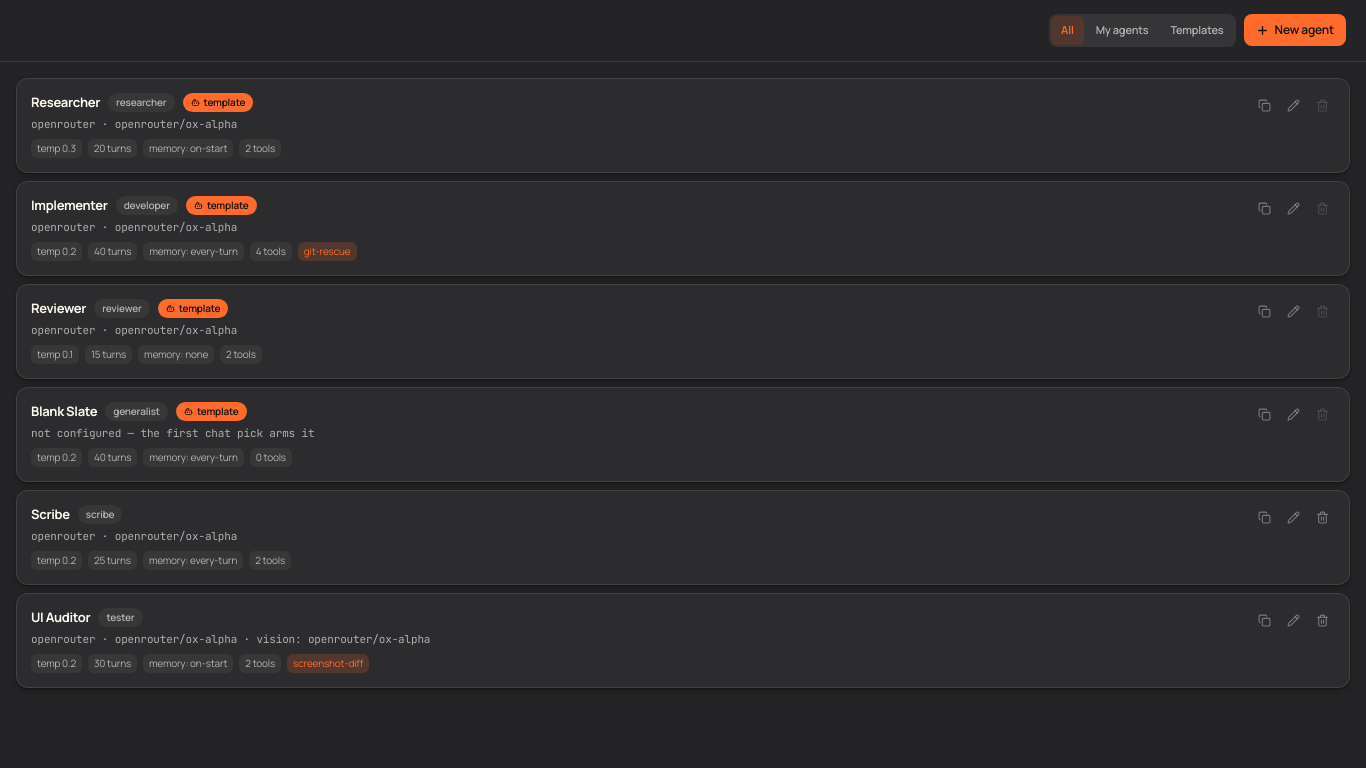
Test case: AgentsScreen (fixture backend) › template filter: My agents hides templates, Templates shows only templates
Expected: the text "Implementer" is shown, left=31, top=196, right=108, bottom=215
Click the button "My agents" at x=1122, y=30, box left=1086, top=16, right=1158, bottom=44
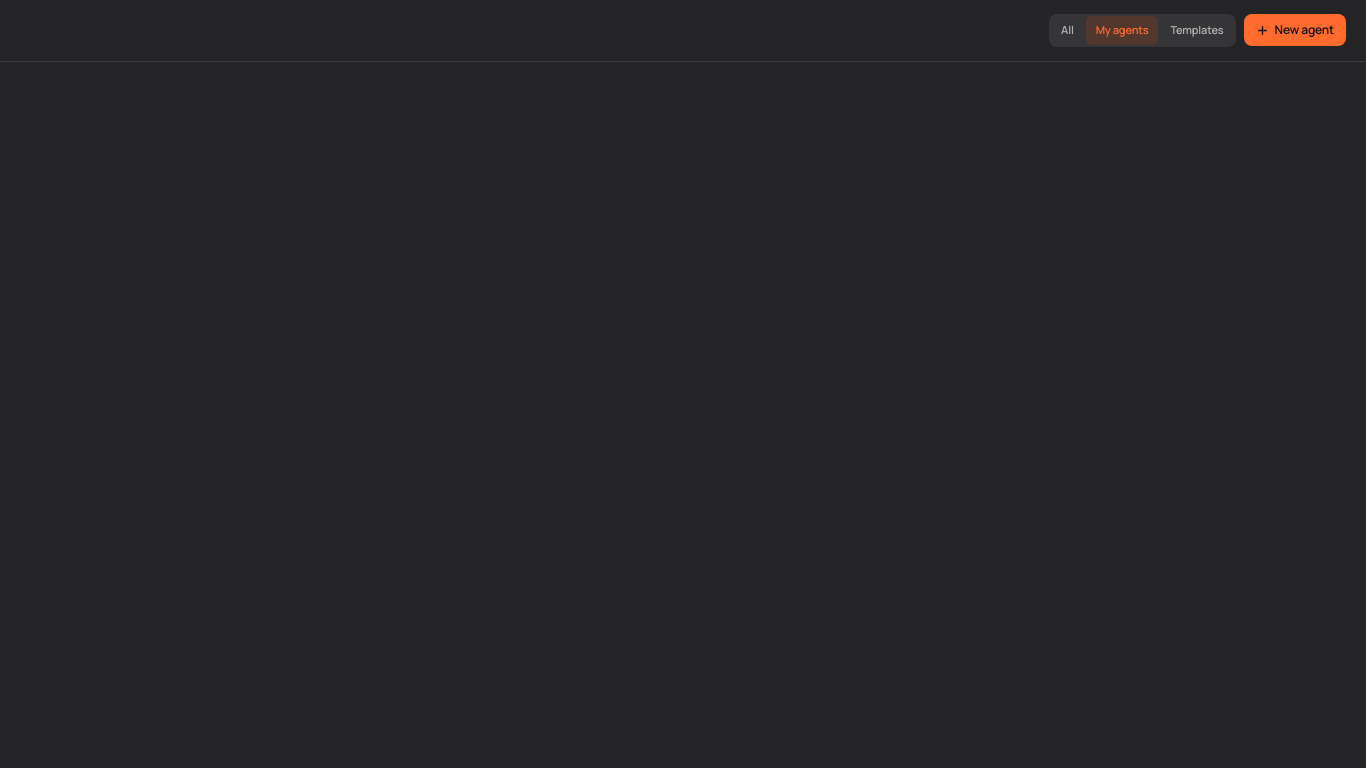
Now the text "Implementer" is gone
Click the button "Templates" at x=1197, y=30, box left=1160, top=16, right=1234, bottom=44
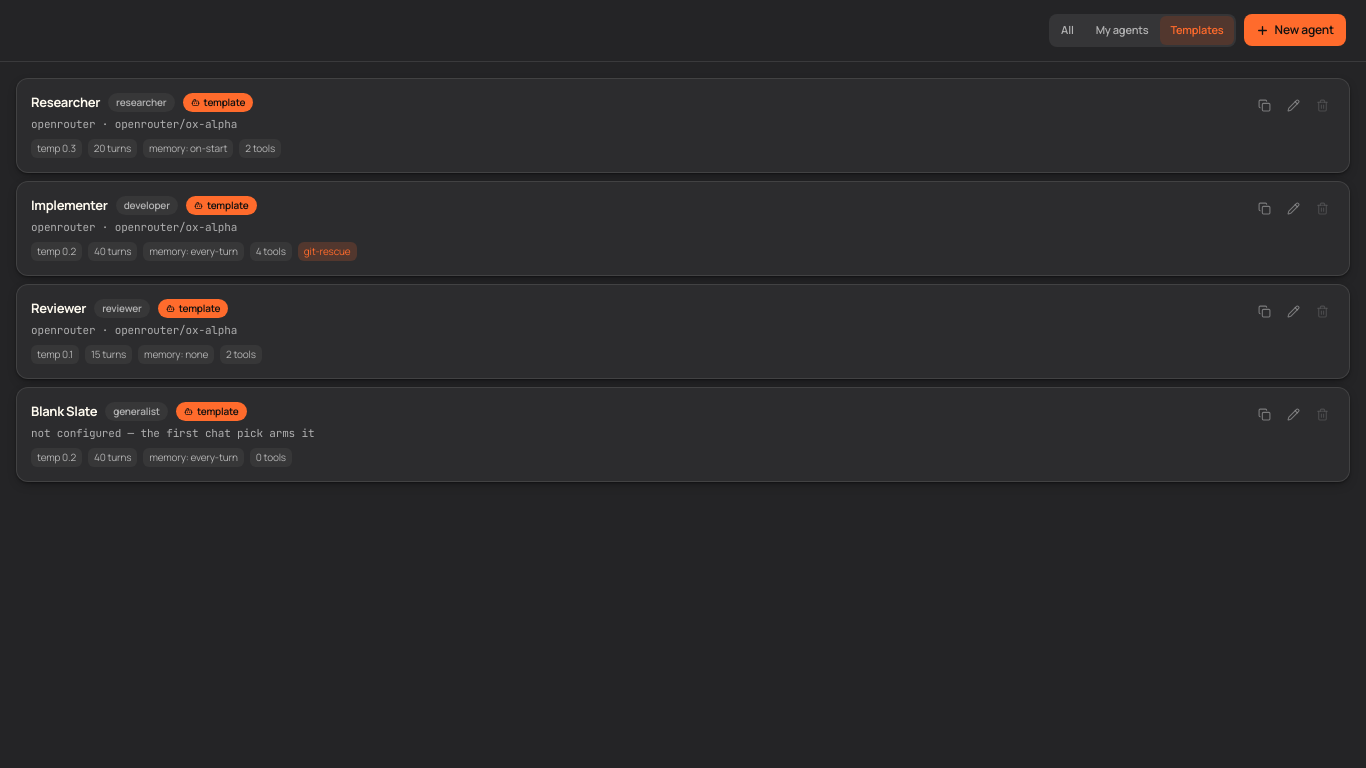
Expected: the text "Scribe" is not shown
Now the text "Implementer" is shown, box left=31, top=196, right=108, bottom=215
